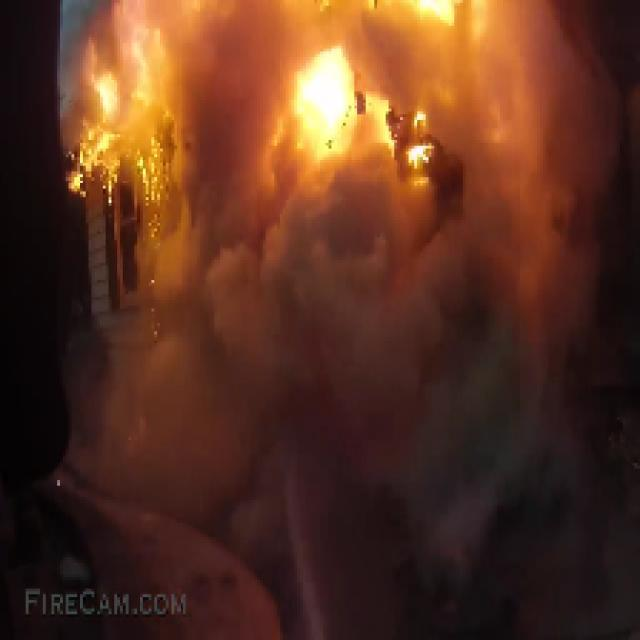Fire: (63, 3, 466, 206)
Smoke: (97, 168, 609, 598)
